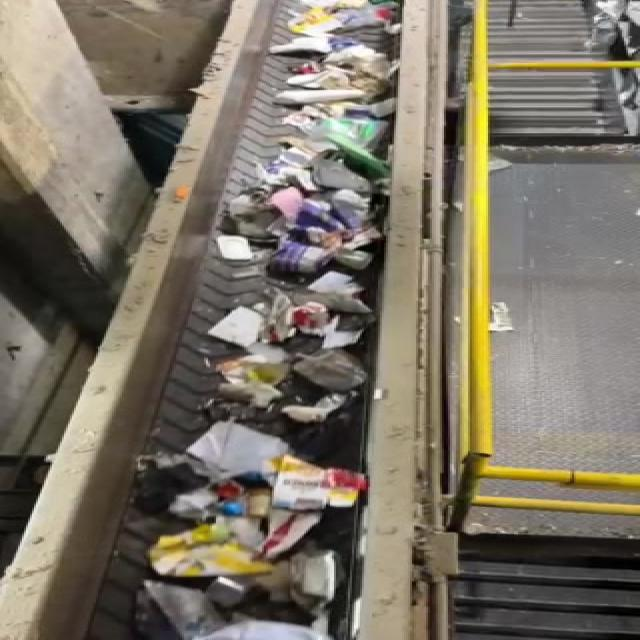paper: (238, 446, 373, 512), (128, 527, 279, 571), (187, 421, 285, 464)
pp: (132, 582, 239, 636), (285, 547, 365, 606)
